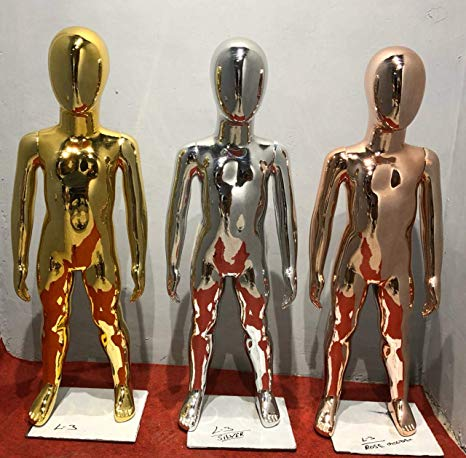person-like: (5, 20, 154, 434), (157, 27, 305, 436), (302, 39, 450, 445)
